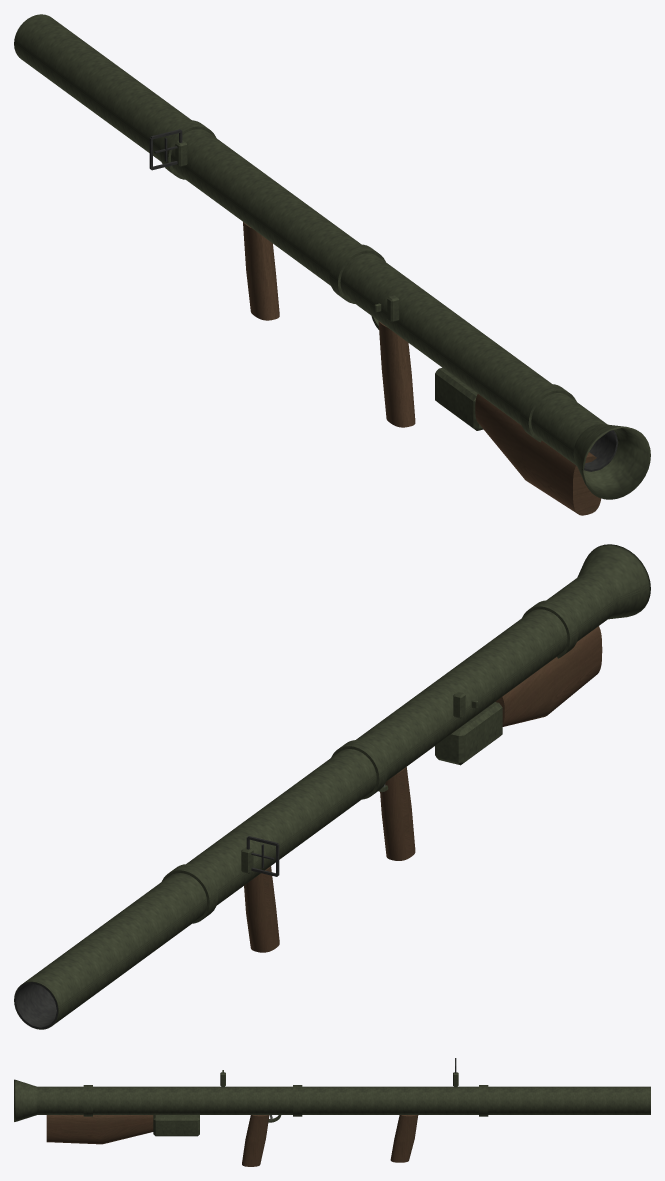
Rendered from bazooka.glb.
3 views of the same model, one above another, from view 1: azimuth 30°, elevation 25°; view 2: azimuth 150°, elevation 25°; view 3: azimuth 270°, elevation 25° (orthographic). The views are drawn at different scales.
Parts seen in each view (by area): view 1: FP_body, TP_body, WD_body; view 2: FP_body, TP_body, WD_body; view 3: FP_body, TP_body, WD_body.
Part boxes in pixels (x1=…): FP_body: x1=14, y1=14, x2=650, y2=515; TP_body: x1=15, y1=14, x2=650, y2=514; WD_body: x1=16, y1=14, x2=650, y2=513; FP_body: x1=14, y1=544, x2=650, y2=1029; TP_body: x1=14, y1=544, x2=648, y2=1029; WD_body: x1=14, y1=544, x2=647, y2=1028; FP_body: x1=14, y1=1058, x2=650, y2=1166; TP_body: x1=14, y1=1080, x2=650, y2=1166; WD_body: x1=14, y1=1084, x2=650, y2=1121.
Bounding box in the file's own units: 0.1335 × 0.2115 × 1.37.
Materials: 4 (4 with a texture image).
